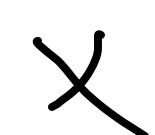mult: (33, 30, 148, 135)
